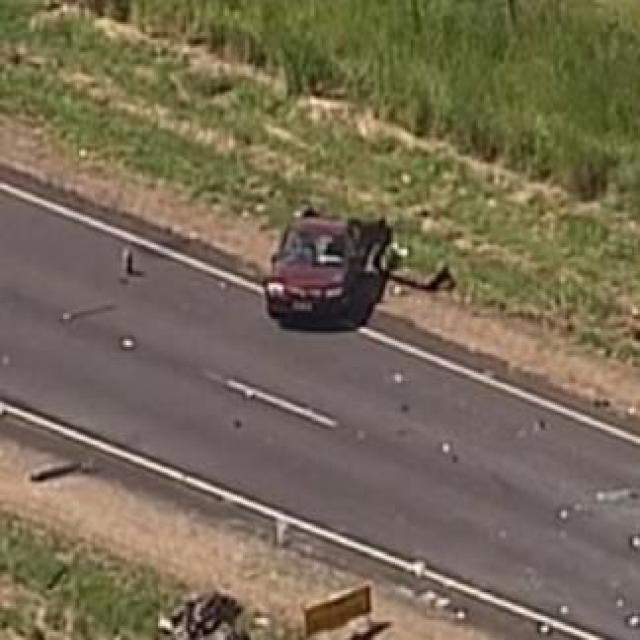traffic_incident: (208, 167, 437, 357)
